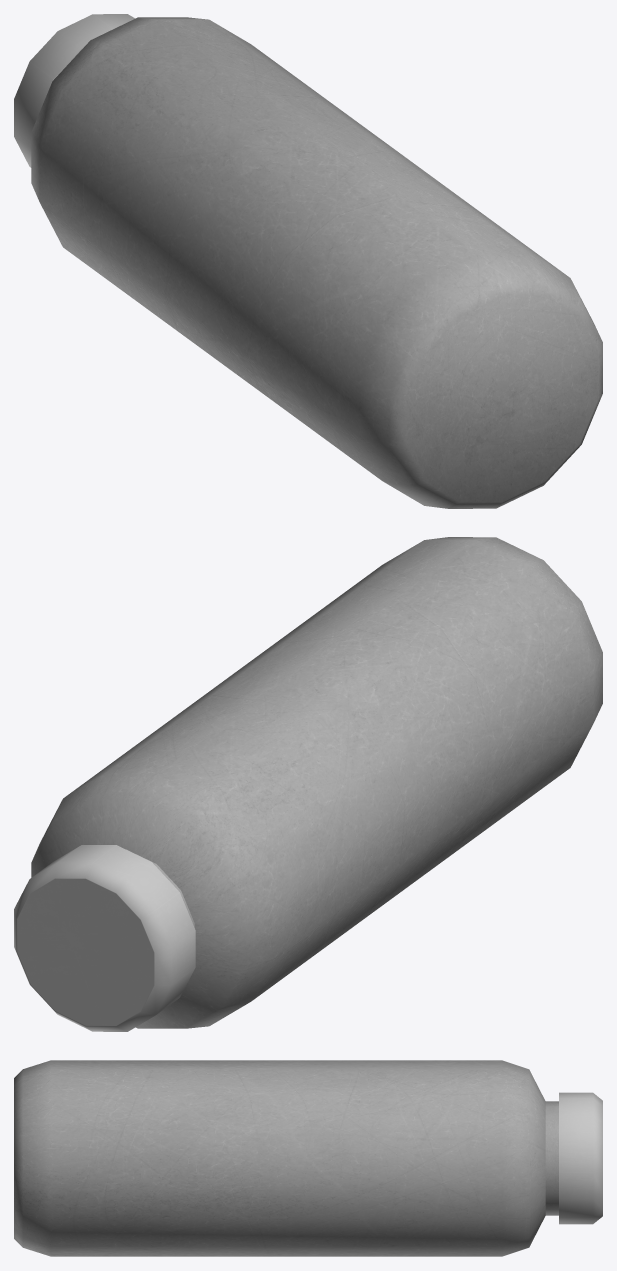
File: Fixed_Item_Bottle Large_Ver1.fbx
3 renders of one model, top to bottom at view 1: azimuth 30°, elevation 25°; view 2: azimuth 150°, elevation 25°; view 3: azimuth 270°, elevation 25°, orthographic. The views are drawn at different scales.
Parts seen in each view (by area): view 1: Pill Bottle large_body, Pill Bottle large_cap; view 2: Pill Bottle large_body, Pill Bottle large_cap; view 3: Pill Bottle large_body, Pill Bottle large_cap.
Part boxes in pixels (x1,y1,x2,y2): Pill Bottle large_body: (31, 17, 602, 508); Pill Bottle large_cap: (14, 14, 134, 167); Pill Bottle large_body: (31, 537, 602, 1028); Pill Bottle large_cap: (14, 845, 195, 1031); Pill Bottle large_body: (14, 1060, 558, 1256); Pill Bottle large_cap: (559, 1092, 602, 1224).
Bounding box in the file's own units: 97.56 × 100 × 300.
1 material, 1 textured.
